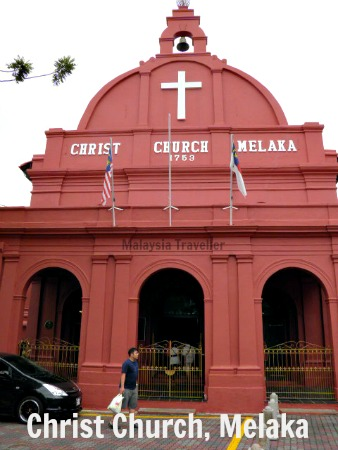Church: (1, 2, 338, 398)
